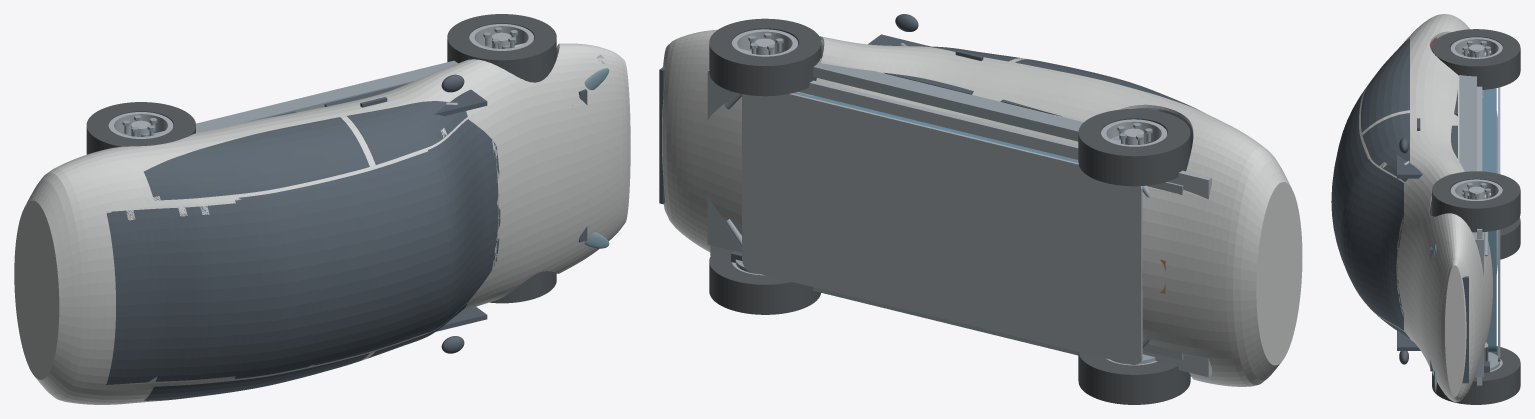
Rendered from assembly.glb.
The picture shows the model from 3 angles, left to right: view 1: azimuth 30°, elevation 25°; view 2: azimuth 150°, elevation 25°; view 3: azimuth 270°, elevation 25°; orthographic projection. The views are drawn at different scales.
Parts seen in each view (by area): view 1: part-035, part-037, part-006, part-007, part-000, part-031, part-036, part-026, part-131, part-004, part-099, part-024 (+9 smaller); view 2: part-062, part-000, part-010, part-007, part-029, part-099, part-131, part-001, part-004, part-024, part-083, part-115 (+10 smaller); view 3: part-036, part-000, part-006, part-008, part-131, part-099, part-029, part-024, part-031, part-035, part-115, part-061 (+11 smaller).
Part boxes in pixels (x1,y1,x2,y2): part-035: [234, 151, 445, 378]; part-037: [106, 203, 248, 384]; part-006: [485, 64, 618, 293]; part-007: [23, 185, 123, 391]; part-000: [39, 43, 626, 404]; part-031: [144, 117, 369, 200]; part-036: [428, 119, 500, 332]; part-026: [347, 101, 467, 164]; part-131: [447, 14, 556, 82]; part-004: [153, 60, 457, 135]; part-099: [86, 102, 195, 154]; part-024: [325, 64, 485, 115]; part-062: [742, 93, 1142, 364]; part-000: [665, 29, 1279, 386]; part-010: [1232, 155, 1278, 385]; part-007: [1249, 164, 1302, 376]; part-029: [977, 62, 1173, 144]; part-099: [1078, 109, 1190, 186]; part-131: [709, 18, 821, 96]; part-001: [710, 80, 1211, 377]; part-004: [813, 58, 1120, 141]; part-024: [829, 41, 1007, 118]; part-083: [1078, 352, 1190, 404]; part-115: [709, 252, 820, 314]; part-036: [1340, 159, 1403, 330]; part-000: [1359, 14, 1497, 401]; part-006: [1396, 190, 1441, 389]; part-008: [1439, 243, 1478, 402]; part-131: [1432, 171, 1520, 232]; part-099: [1432, 29, 1520, 89]; part-029: [1410, 45, 1459, 123]; part-024: [1410, 112, 1464, 194]; part-031: [1361, 38, 1409, 132]; part-035: [1331, 86, 1368, 275]; part-115: [1432, 346, 1520, 404]; part-061: [1482, 88, 1496, 352].
Size of the model in its own units: 0.19 by 0.085 by 0.065.
